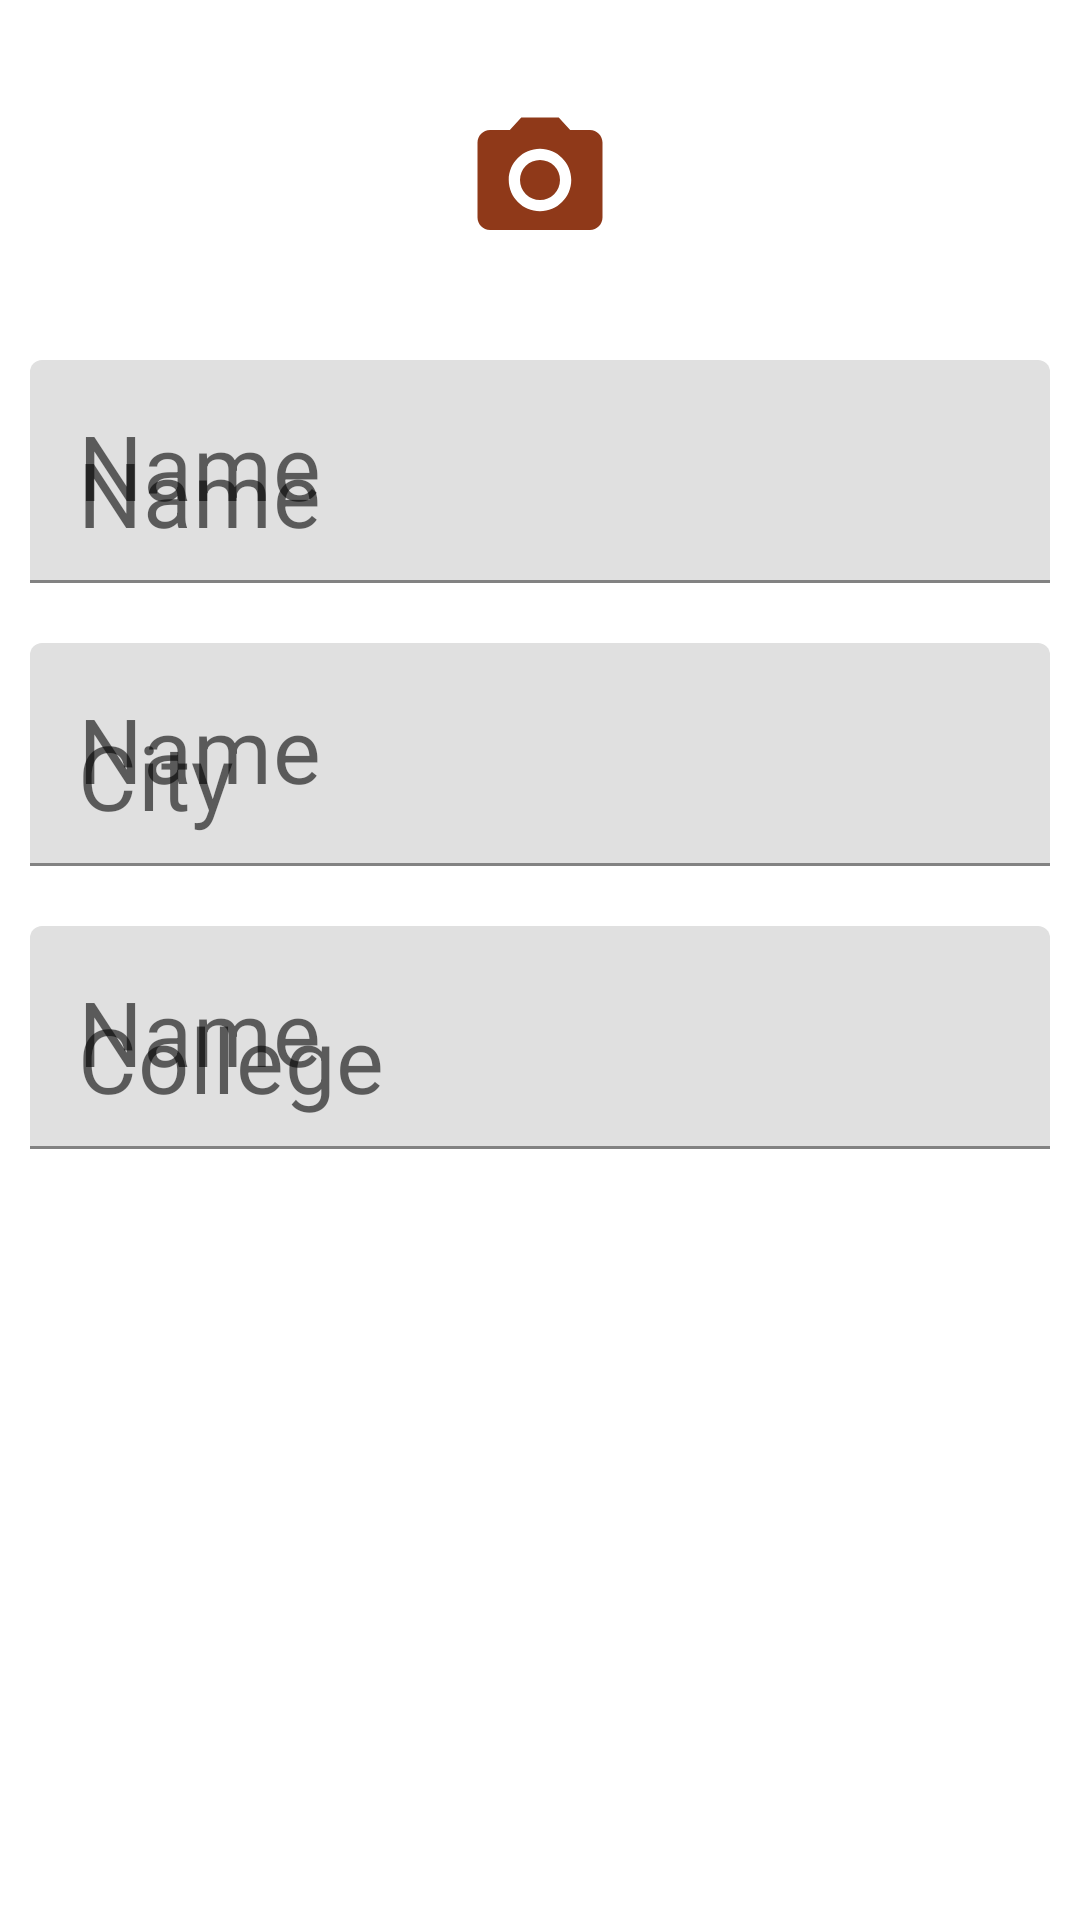

Icons on this 1080px x 1920px Android screen, each with its box as (left=x1, top=y1, right=x2, bottom=y2):
camera: (left=477, top=117, right=603, bottom=230)
